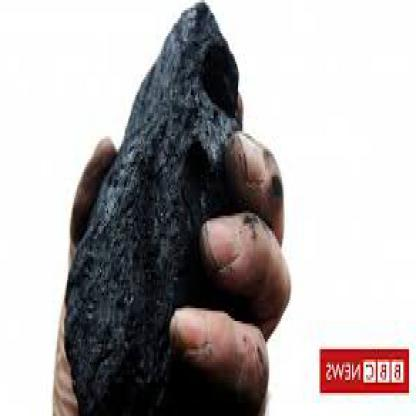Sedimentary_coal: (64, 0, 267, 414)
